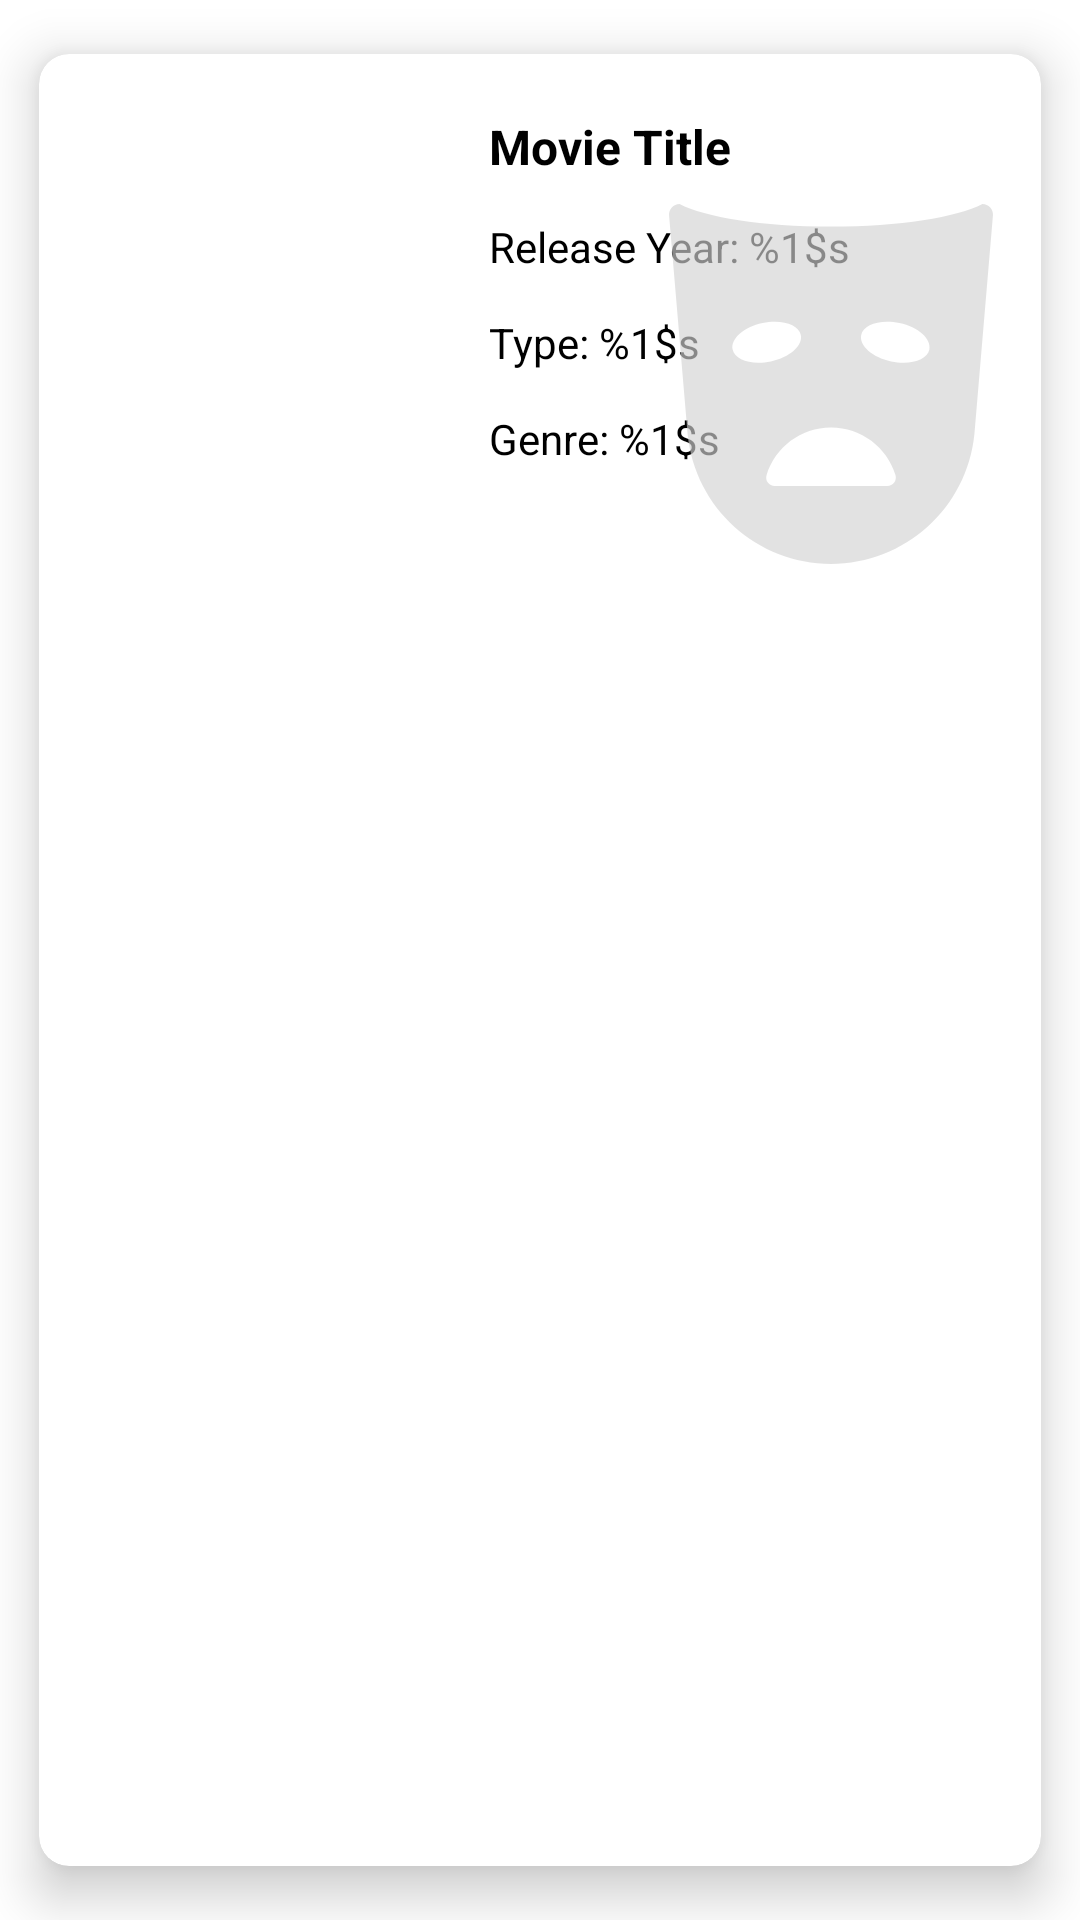

Icon bounding boxes for this 1080w x 1920h phone screenshot, format (x1, y1, x2, y2):
drama genre: (651, 204, 993, 564)
